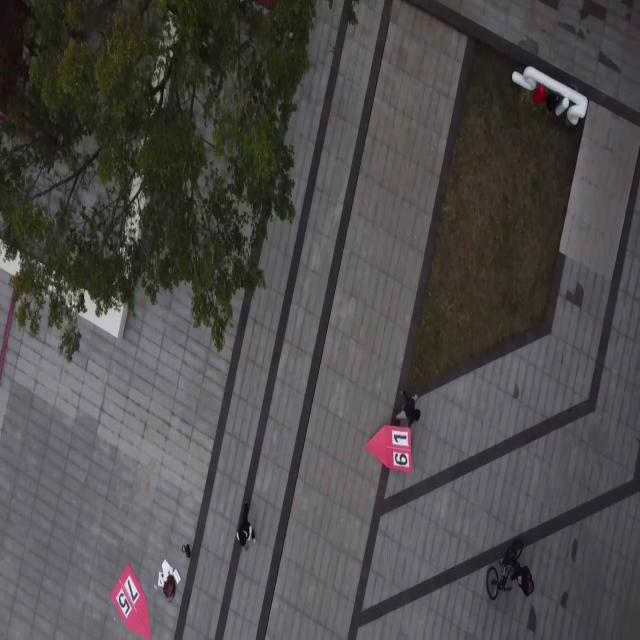-sign-: (102, 558, 161, 640), (364, 423, 412, 474)
